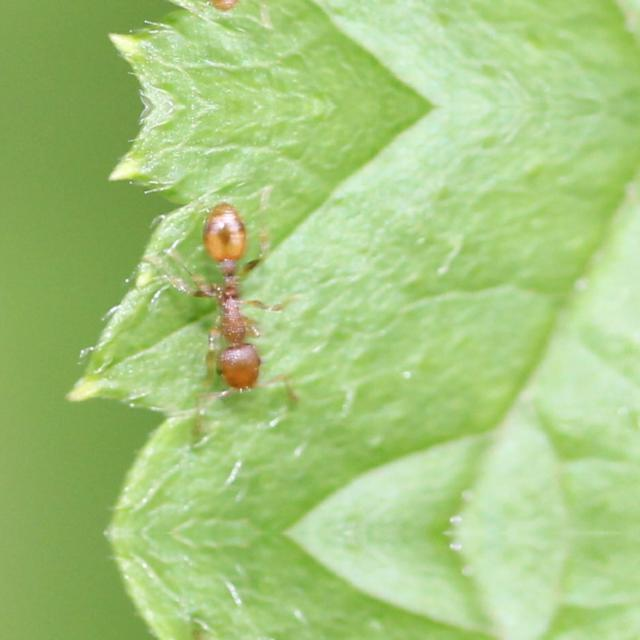Temnothorax: (149, 184, 305, 410)
